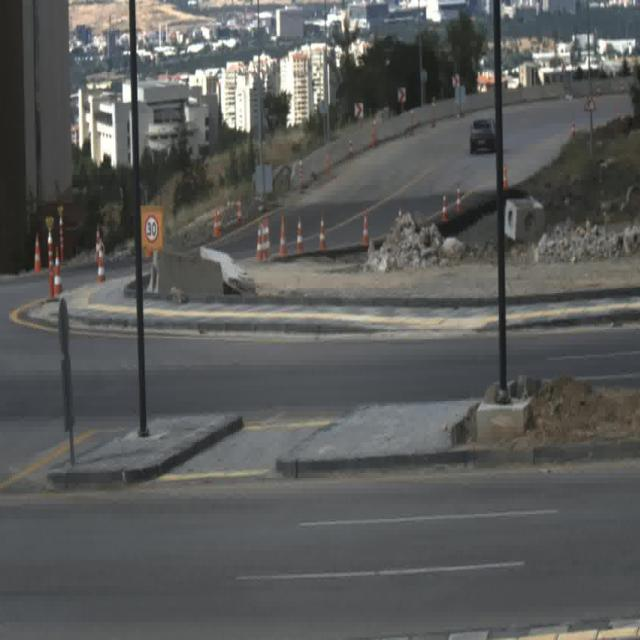Car: (469, 118, 497, 150)
